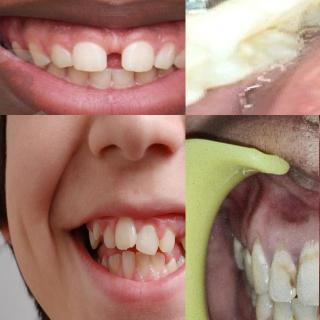Gum Swelling: (136, 218, 186, 238), (96, 215, 119, 232)
calculus: (314, 301, 320, 320)
maligned: (112, 214, 136, 248), (120, 249, 136, 280), (100, 225, 116, 251), (90, 220, 102, 240), (165, 257, 179, 273)
stains: (288, 309, 300, 320)
